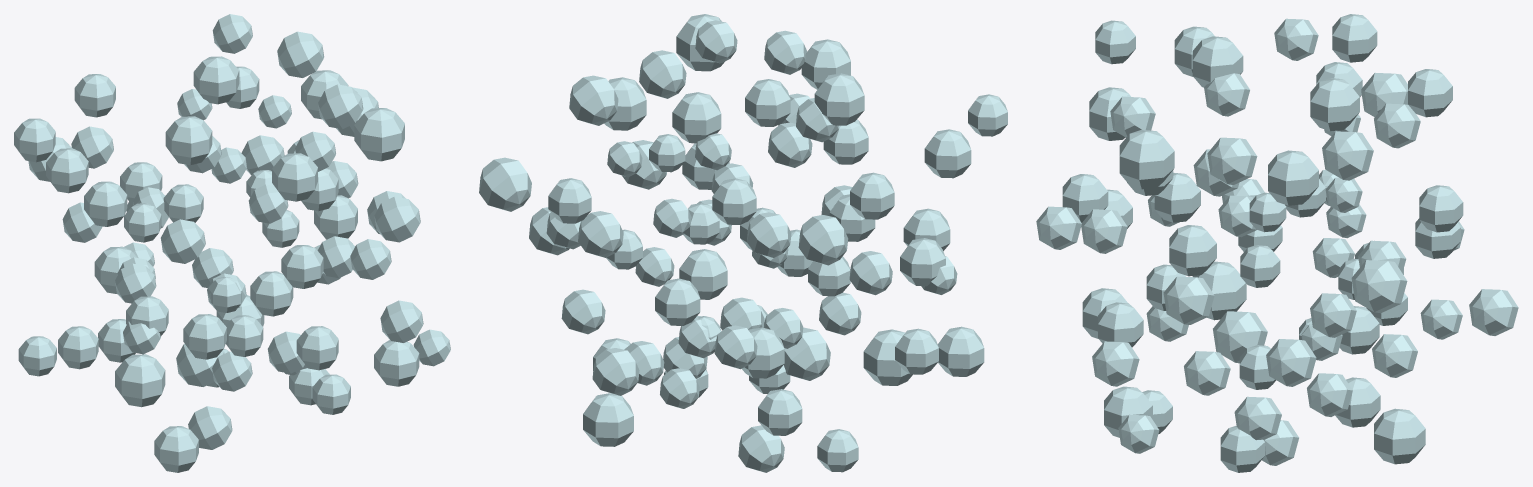
The model's file is IceMist.obj.
3 renders of one model, left to right at view 1: azimuth 30°, elevation 25°; view 2: azimuth 150°, elevation 25°; view 3: azimuth 270°, elevation 25°, orthographic. The views are drawn at different scales.
Visible parts, largest first — view 1: 球.002; view 2: 球.002; view 3: 球.002.
Boxes of the visible parts, x1,y1,x2,y2 form: 球.002: [14, 14, 450, 472]; 球.002: [479, 14, 1007, 472]; 球.002: [1036, 14, 1518, 472].
Size of the model in its own units: 2.24 by 2.4 by 2.27.
